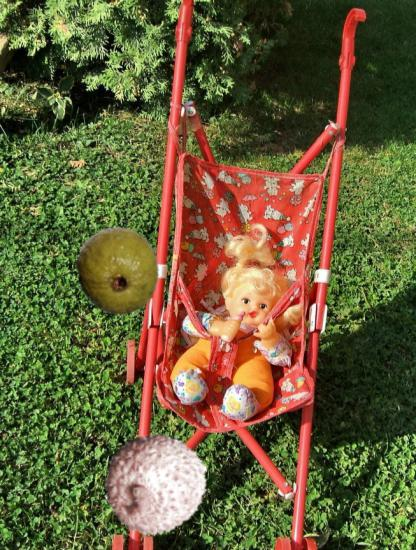Guava: (72, 225, 163, 316)
Lychee: (104, 432, 209, 537)
